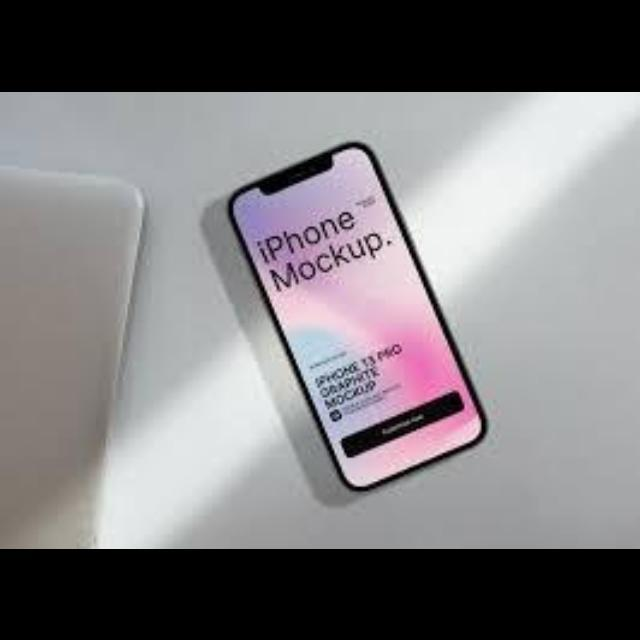Phone: (228, 140, 488, 490)
